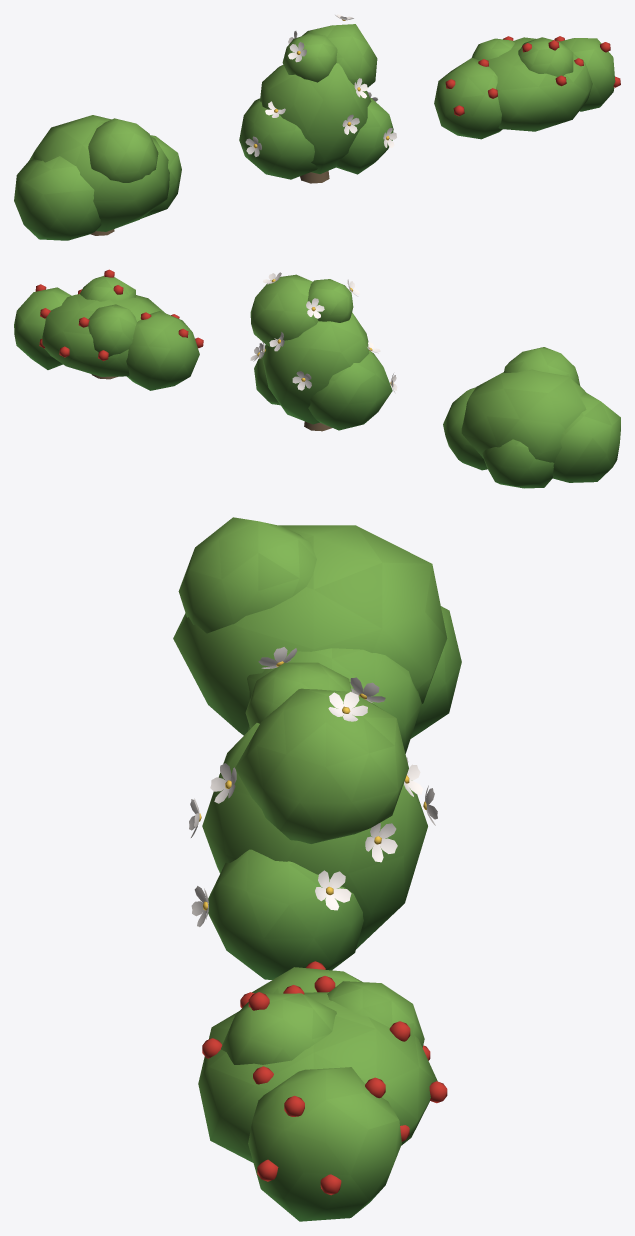
The model's file is TS_Bushes.glb.
3 views of the same model, one above another, from view 1: azimuth 30°, elevation 25°; view 2: azimuth 150°, elevation 25°; view 3: azimuth 270°, elevation 25° (orthographic). The views are drawn at different scales.
Visible parts, largest first — view 1: TS_Bush_02, TS_Bush_01, TS_Bush_03; view 2: TS_Bush_01, TS_Bush_02, TS_Bush_03; view 3: TS_Bush_02, TS_Bush_03, TS_Bush_01.
Part boxes in pixels (x1,y1,x2,y2): TS_Bush_02: [239, 14, 396, 183]; TS_Bush_01: [14, 115, 181, 240]; TS_Bush_03: [434, 36, 620, 139]; TS_Bush_01: [443, 347, 620, 488]; TS_Bush_02: [250, 272, 397, 431]; TS_Bush_03: [14, 269, 203, 390]; TS_Bush_02: [189, 647, 437, 979]; TS_Bush_03: [198, 961, 447, 1221]; TS_Bush_01: [173, 517, 461, 753].
Size of the model in its own units: 22.25 by 5.35 by 4.71.
